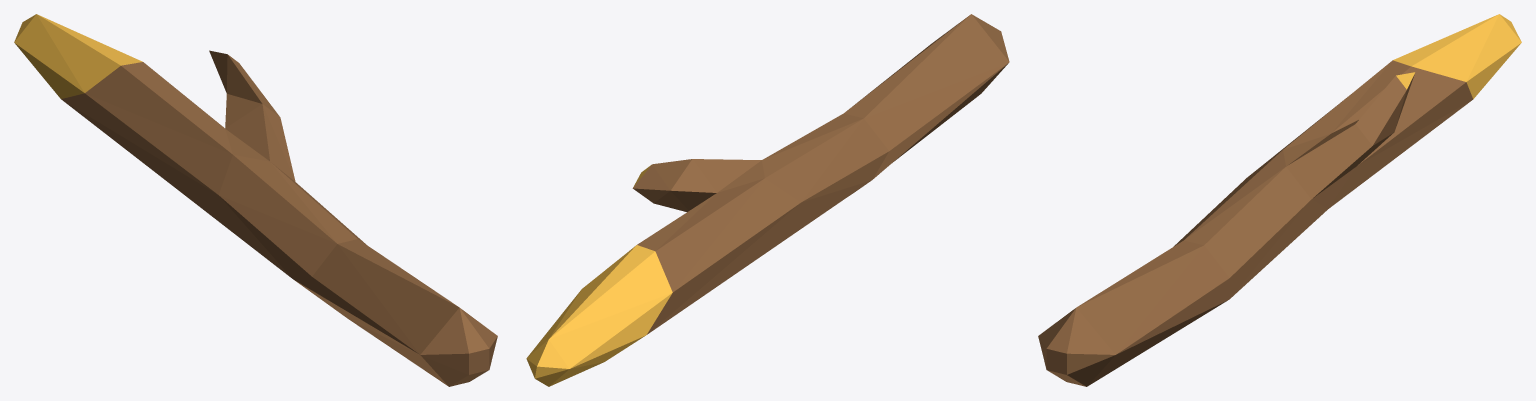
File: Stick.dae
3 views of the same model, side by side, from view 1: azimuth 30°, elevation 25°; view 2: azimuth 150°, elevation 25°; view 3: azimuth 330°, elevation 25° (orthographic).
Parts seen in each view (by area): view 1: Cube; view 2: Cube; view 3: Cube.
Boxes of the visible parts, <box> form: Cube: <box>14,14,497,386</box>; Cube: <box>526,14,1009,386</box>; Cube: <box>1038,14,1521,386</box>.
Bounding box in the file's own units: 0.2617 × 2.12 × 0.351.
Materials: 1 (1 with a texture image).
